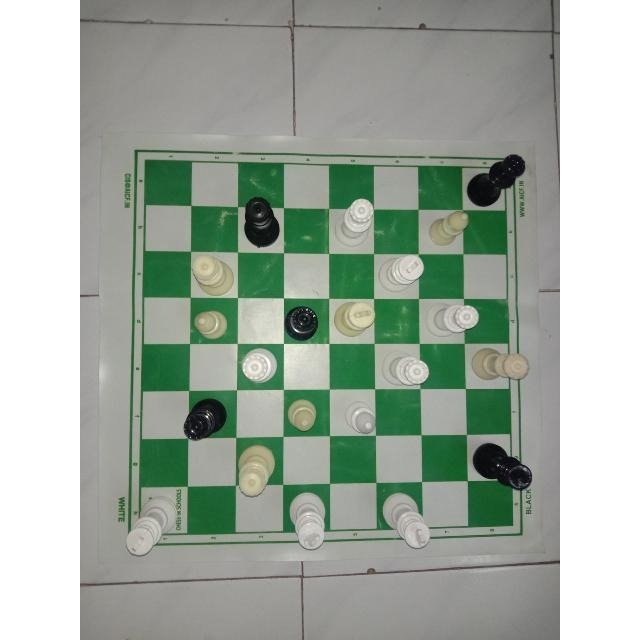black-king: (473, 436, 537, 495)
black-queen: (467, 148, 528, 206), (178, 393, 228, 448), (240, 194, 286, 249), (280, 301, 326, 344)
white-bishop: (192, 294, 236, 346), (281, 395, 329, 441), (426, 206, 472, 252), (339, 392, 380, 442)
white-king: (122, 495, 186, 565), (380, 487, 440, 545), (286, 490, 332, 554), (328, 298, 384, 347), (378, 253, 427, 295)
white-queen: (468, 345, 533, 391), (328, 196, 375, 252), (236, 438, 278, 498), (189, 248, 238, 298), (423, 300, 481, 341), (382, 354, 436, 392), (236, 346, 287, 386)
